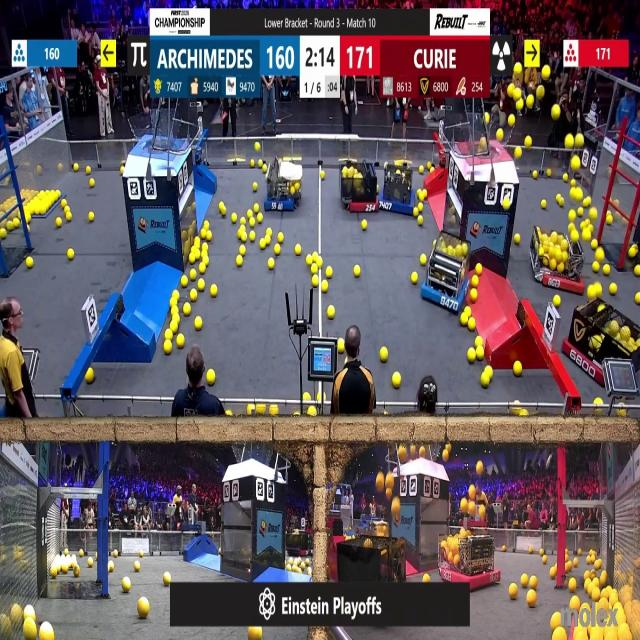ball_airborne: (397, 446, 407, 463), (377, 474, 386, 492), (391, 497, 400, 514), (570, 158, 580, 171), (574, 134, 583, 148), (540, 66, 549, 80), (553, 105, 561, 120), (386, 472, 393, 489), (565, 135, 573, 149), (470, 500, 478, 514), (526, 96, 534, 109), (516, 63, 524, 76), (496, 129, 504, 142), (536, 88, 544, 100), (460, 498, 468, 510), (584, 230, 592, 242), (507, 86, 514, 99), (515, 88, 522, 101), (589, 285, 596, 298), (596, 249, 603, 262), (471, 486, 478, 499), (590, 209, 598, 220), (517, 100, 524, 112), (516, 146, 523, 158), (595, 284, 602, 296), (479, 505, 486, 517), (475, 462, 482, 474), (507, 114, 514, 125), (419, 447, 426, 458), (571, 232, 578, 243), (525, 137, 532, 148), (610, 283, 616, 295), (481, 138, 487, 150), (574, 188, 581, 198), (444, 451, 450, 462), (485, 111, 490, 122), (570, 179, 576, 186)
ball_ground: (26, 621, 38, 640), (40, 624, 53, 640), (139, 598, 149, 618), (552, 614, 562, 630), (249, 627, 261, 640), (392, 373, 401, 389), (207, 370, 216, 386), (514, 360, 523, 376), (527, 591, 536, 607), (553, 630, 566, 640), (482, 374, 491, 388), (568, 580, 577, 594), (87, 367, 95, 382), (511, 585, 519, 600), (467, 348, 475, 362), (338, 340, 346, 354), (122, 579, 130, 593), (176, 336, 184, 349), (163, 342, 171, 355), (270, 407, 279, 418), (381, 348, 388, 362), (477, 348, 485, 360), (326, 307, 334, 319), (570, 597, 578, 609), (198, 279, 206, 291), (529, 575, 537, 587), (630, 246, 638, 258), (592, 589, 600, 601), (599, 573, 607, 585), (194, 317, 201, 330), (469, 288, 476, 301), (321, 280, 328, 293), (460, 314, 467, 327), (256, 406, 265, 416), (554, 295, 562, 306), (180, 276, 188, 287), (171, 321, 179, 332), (211, 284, 218, 296), (27, 256, 34, 268), (165, 572, 172, 584), (183, 304, 190, 316), (515, 234, 522, 246), (189, 289, 196, 301), (522, 574, 529, 586), (474, 266, 482, 276), (165, 329, 173, 339), (484, 366, 492, 376), (6, 220, 14, 230), (68, 249, 75, 260), (237, 255, 244, 266), (269, 260, 276, 271), (420, 254, 427, 265), (569, 210, 576, 221), (502, 200, 509, 211), (354, 266, 360, 278), (412, 273, 418, 285), (312, 276, 318, 288), (468, 318, 474, 330), (634, 266, 640, 278), (308, 410, 317, 418), (593, 264, 600, 274), (474, 338, 481, 348), (200, 265, 207, 275), (188, 271, 195, 281), (12, 218, 19, 228), (275, 244, 281, 255), (471, 276, 477, 287), (325, 268, 331, 279), (551, 567, 557, 578), (220, 205, 226, 216), (314, 254, 320, 265), (606, 213, 612, 224), (170, 296, 178, 304), (304, 392, 311, 401), (413, 208, 420, 217), (603, 266, 609, 276), (294, 245, 300, 255), (250, 232, 256, 242), (418, 215, 424, 225), (278, 234, 284, 244), (232, 213, 238, 223), (172, 307, 178, 317), (0, 230, 6, 240), (134, 562, 140, 572), (592, 240, 598, 250), (202, 231, 208, 241), (108, 562, 114, 572), (240, 232, 246, 242), (566, 561, 572, 571), (188, 254, 195, 262), (539, 201, 546, 209), (172, 290, 179, 298), (193, 238, 200, 246), (203, 220, 210, 228), (572, 559, 579, 567), (418, 189, 423, 200), (361, 220, 367, 229), (240, 246, 246, 255), (259, 240, 265, 249), (423, 573, 429, 582), (307, 255, 313, 264), (545, 169, 551, 178), (57, 218, 63, 227), (312, 266, 318, 275), (418, 204, 424, 213), (202, 242, 208, 251), (464, 308, 470, 317), (266, 237, 272, 246), (595, 560, 601, 569), (26, 214, 32, 223), (541, 556, 547, 565), (90, 212, 95, 222), (207, 232, 212, 242), (75, 566, 80, 576), (559, 198, 564, 208), (250, 218, 256, 226), (203, 256, 209, 264), (252, 182, 258, 190), (268, 227, 274, 235), (620, 411, 626, 419), (316, 392, 322, 400), (577, 208, 583, 216), (586, 570, 592, 578), (257, 214, 262, 223), (532, 171, 537, 180), (636, 292, 640, 303), (596, 397, 602, 404), (240, 224, 247, 230), (67, 213, 72, 221), (90, 559, 95, 567), (91, 179, 96, 187), (250, 161, 255, 169), (254, 205, 259, 213), (264, 166, 269, 174), (63, 200, 68, 208), (247, 410, 252, 418), (588, 556, 593, 564), (568, 222, 573, 230), (254, 143, 259, 151), (56, 189, 61, 197), (539, 550, 544, 558), (225, 412, 231, 418), (241, 217, 246, 224), (85, 166, 90, 173), (557, 193, 562, 200), (257, 162, 262, 169), (420, 167, 424, 175), (248, 210, 252, 218), (320, 172, 324, 180), (74, 165, 78, 173), (502, 546, 506, 554), (323, 392, 327, 400), (113, 552, 118, 558), (122, 166, 127, 172), (564, 556, 569, 562), (140, 552, 144, 559), (119, 168, 123, 175), (529, 545, 533, 552), (79, 551, 83, 558), (577, 550, 581, 557), (427, 163, 431, 170)
goal: (128, 116, 186, 152), (462, 121, 513, 159)
robot_blue: (420, 236, 470, 316), (379, 159, 416, 215), (264, 159, 303, 211)
robot_red: (567, 300, 628, 389), (439, 527, 500, 589), (530, 229, 589, 293), (339, 160, 380, 213), (284, 530, 309, 556)
